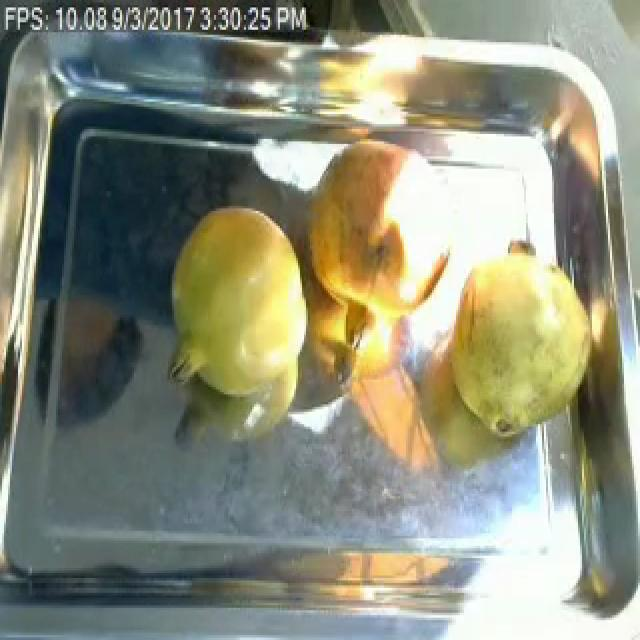fruit: (288, 129, 480, 342), (154, 186, 320, 417), (436, 224, 602, 452)
